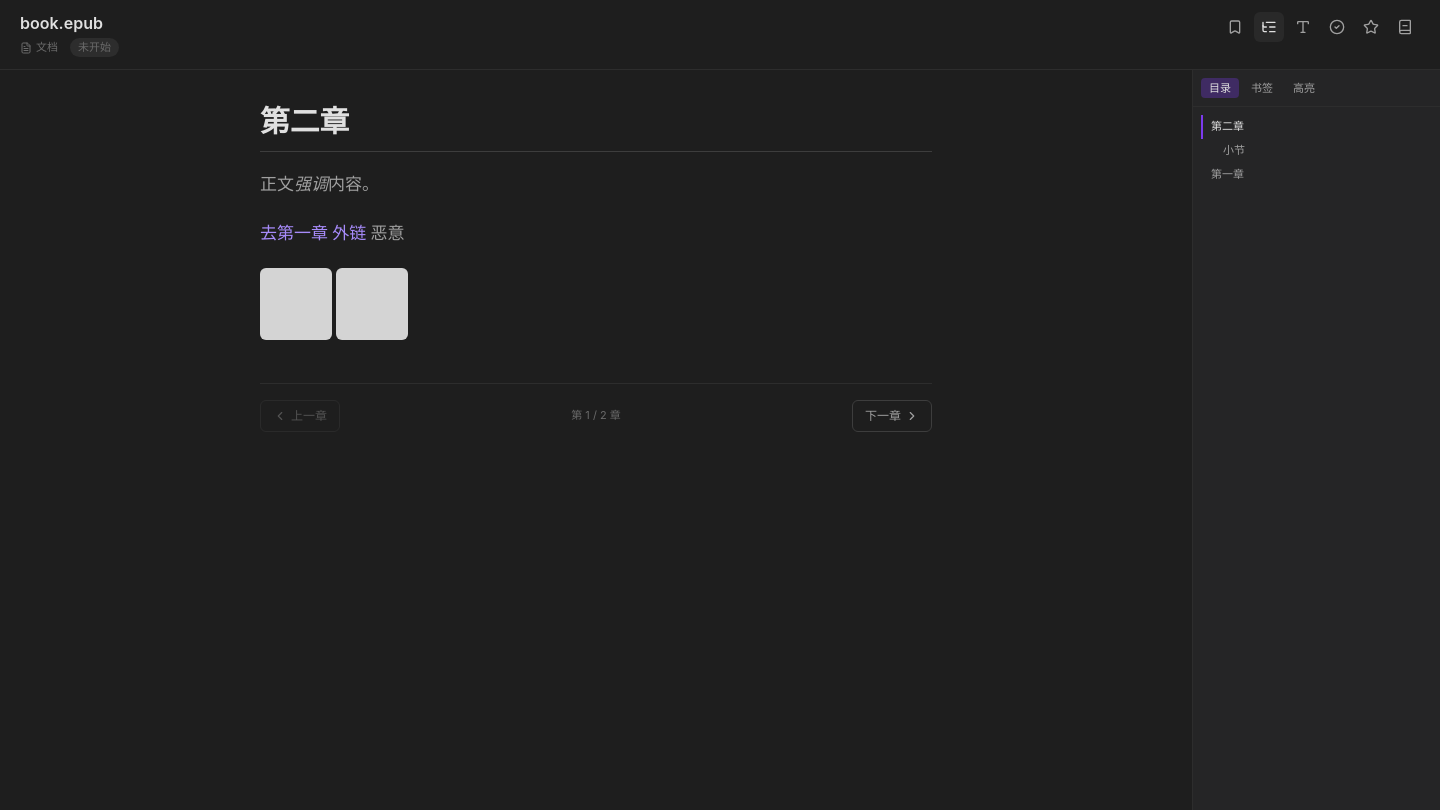
Test: ReadingView › EPUB 按章节阅读：目录跳转、章节切换与书内链接
Expected: the text "第 1 / 2 章" is shown, [571,406,621,426]
Expected: the heading with id "epub-top" reads "第二章", [260,105,349,138]
Click the button "第一章" at (1316, 174), box [1201,163,1432,186]
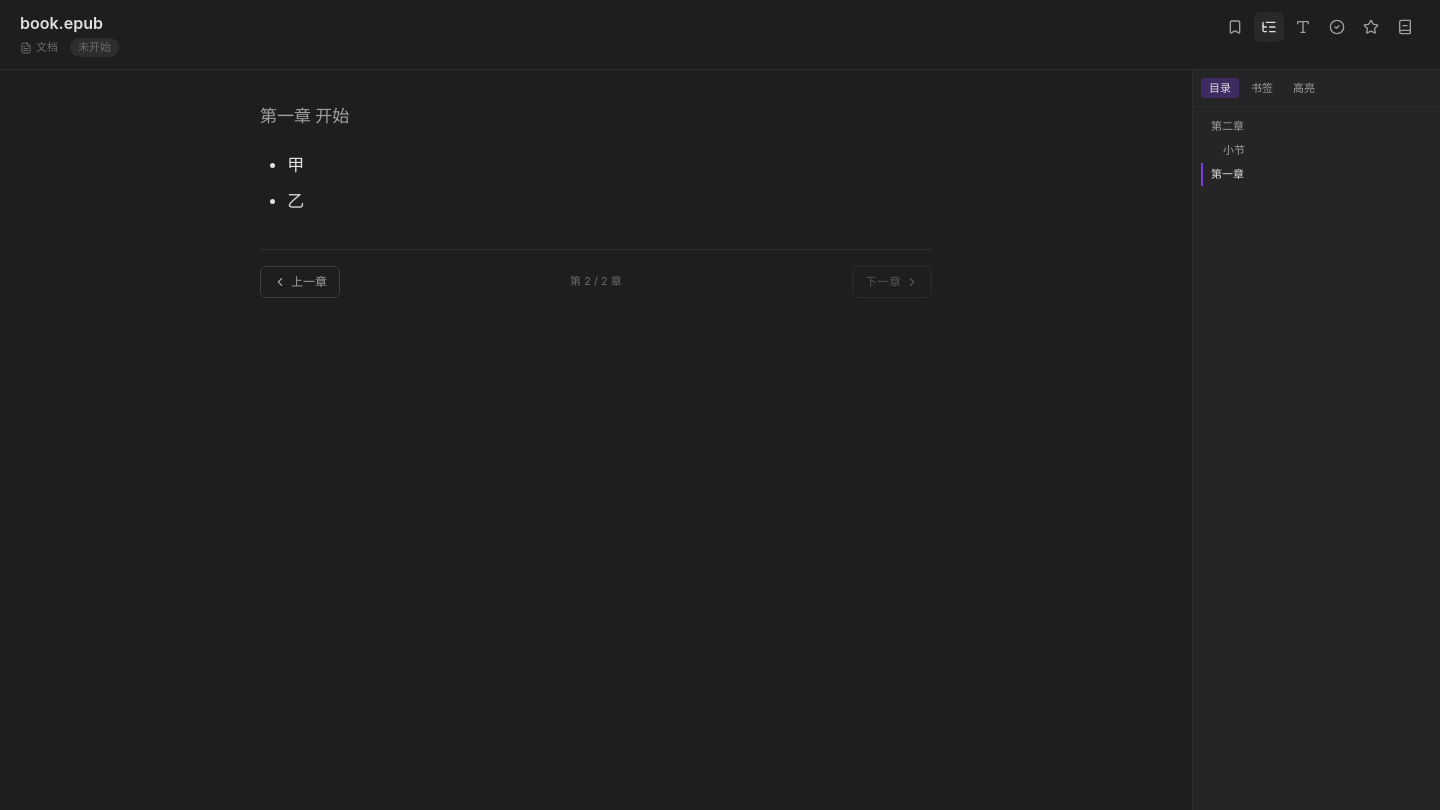
Expected: the text "第 2 / 2 章" is shown, [570,272,622,292]
Expected: the text "第一章 开始" is shown, [260,107,349,126]
Click the button "上一章" at (300, 282), box [260,266,340,298]
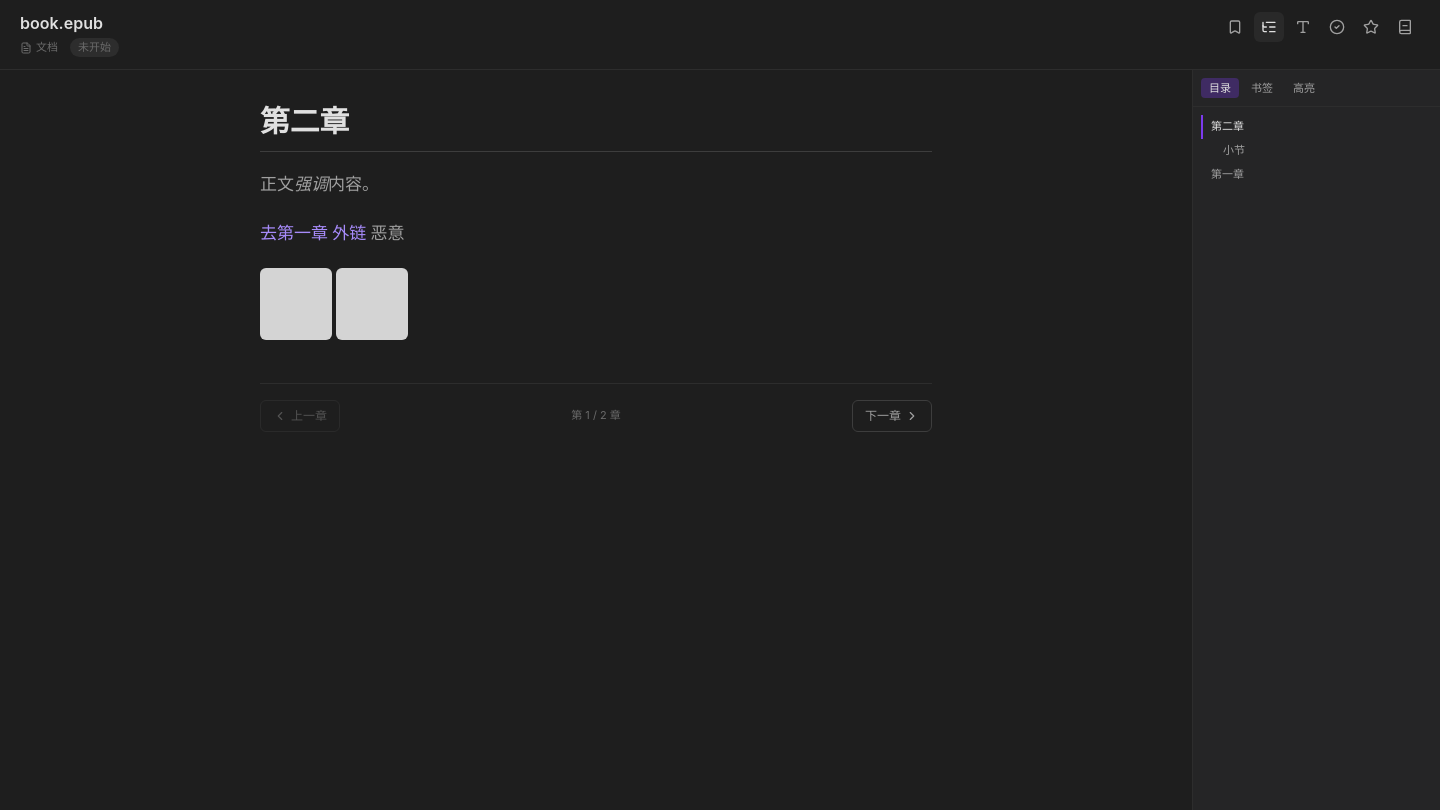
Expected: the text "第 1 / 2 章" is shown, [571,406,621,426]
Click the link "去第一章" at (294, 234), box [260,224,328,243]
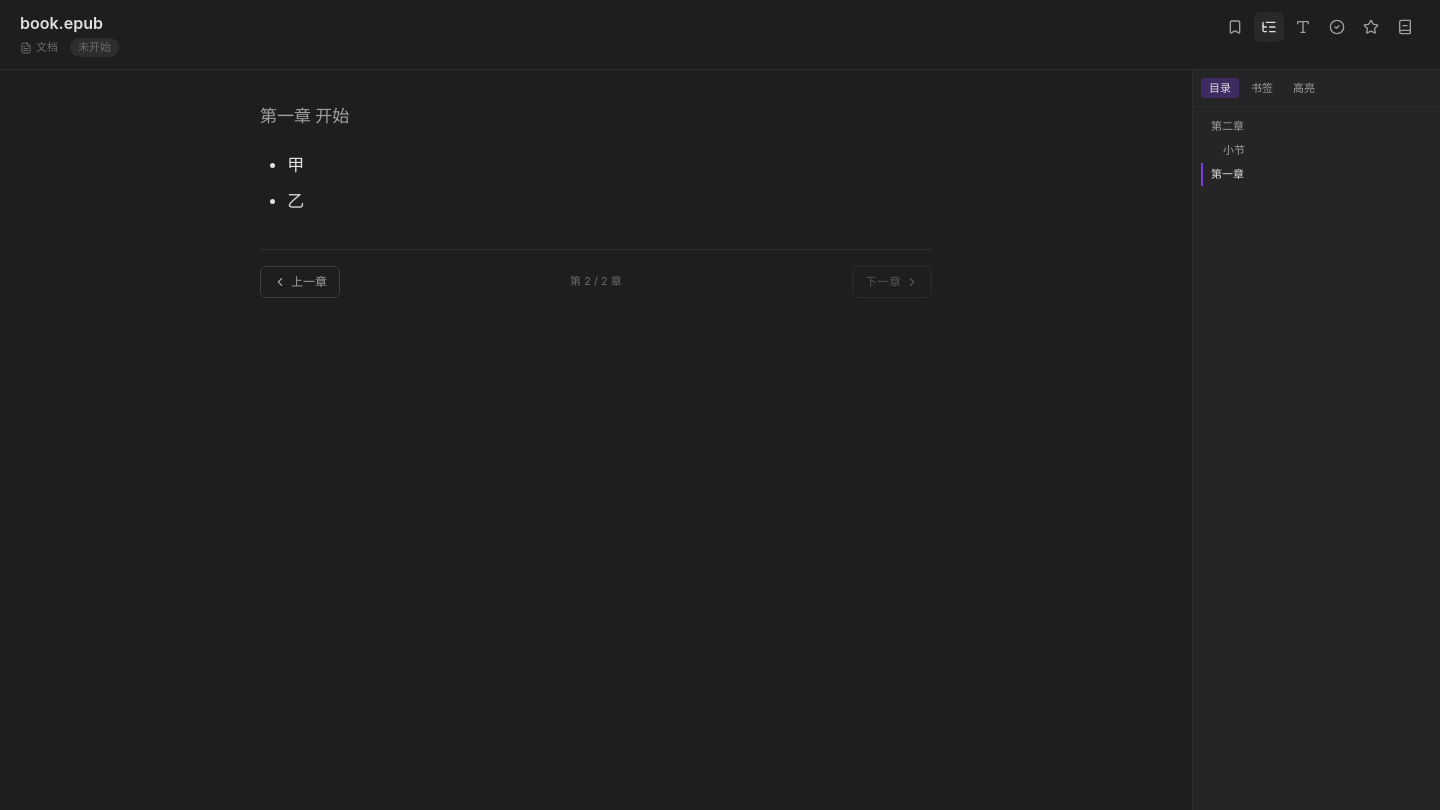
Expected: the text "第 2 / 2 章" is shown, [570,272,622,292]
